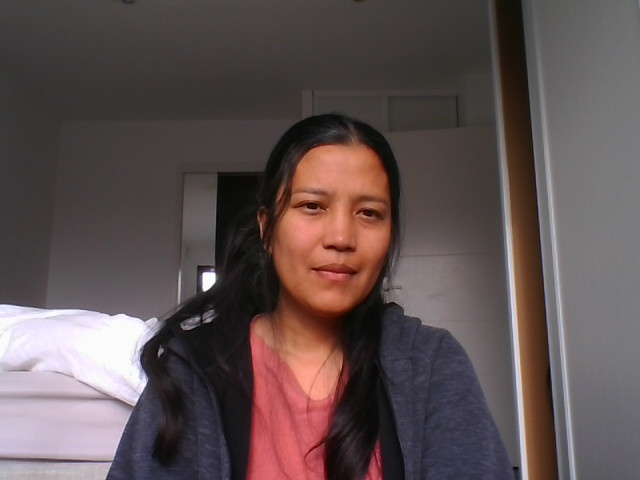face: (257, 115, 392, 315)
